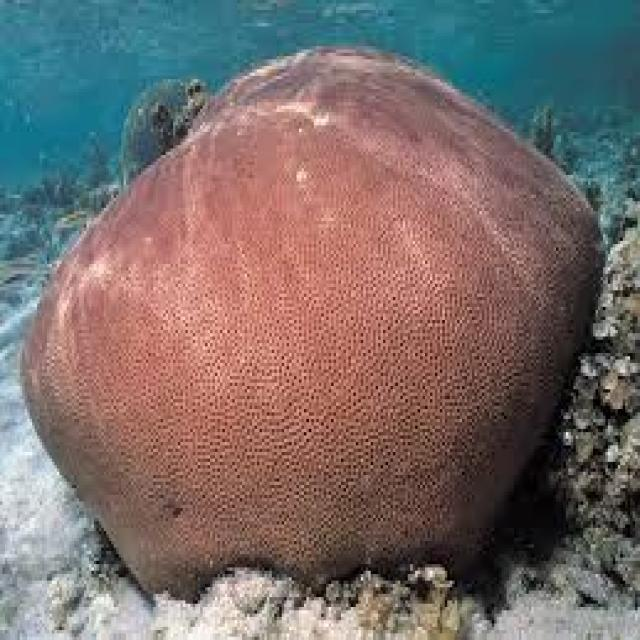Coral: (19, 46, 600, 604)
